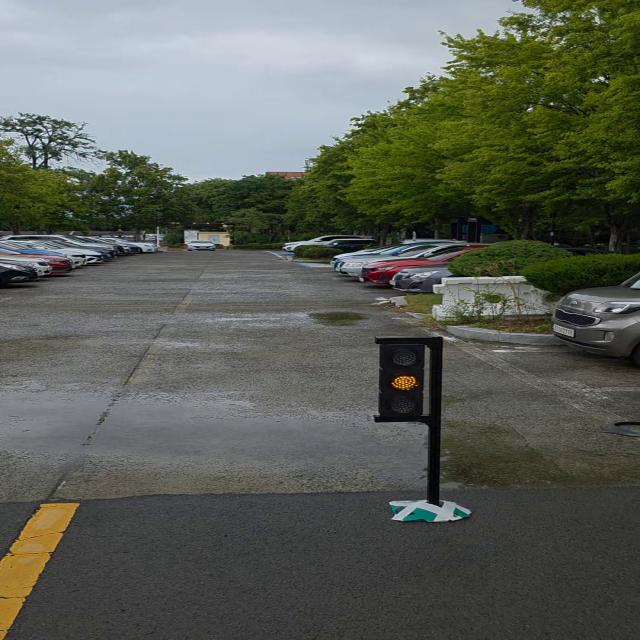yellow: (382, 340, 427, 422)
